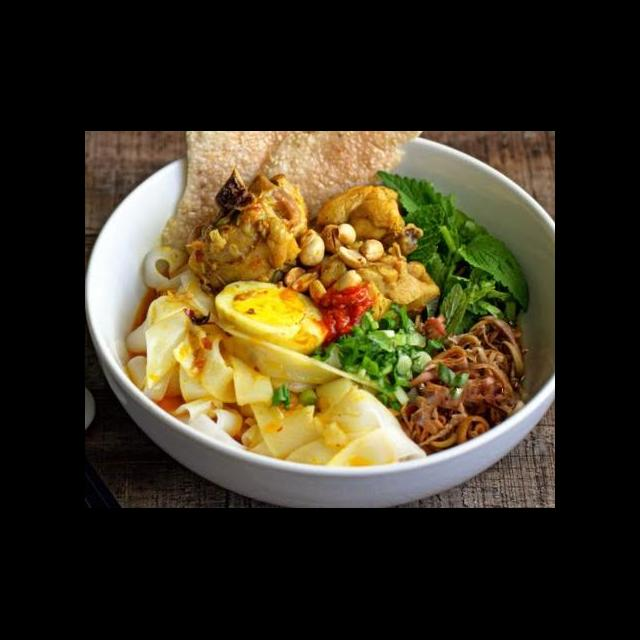banh da: (234, 133, 427, 240), (157, 132, 303, 255)
mi: (166, 328, 430, 472), (122, 244, 242, 411)
thit ga: (309, 238, 443, 330)
thit heo: (180, 164, 310, 300)
trung: (213, 276, 331, 360)
